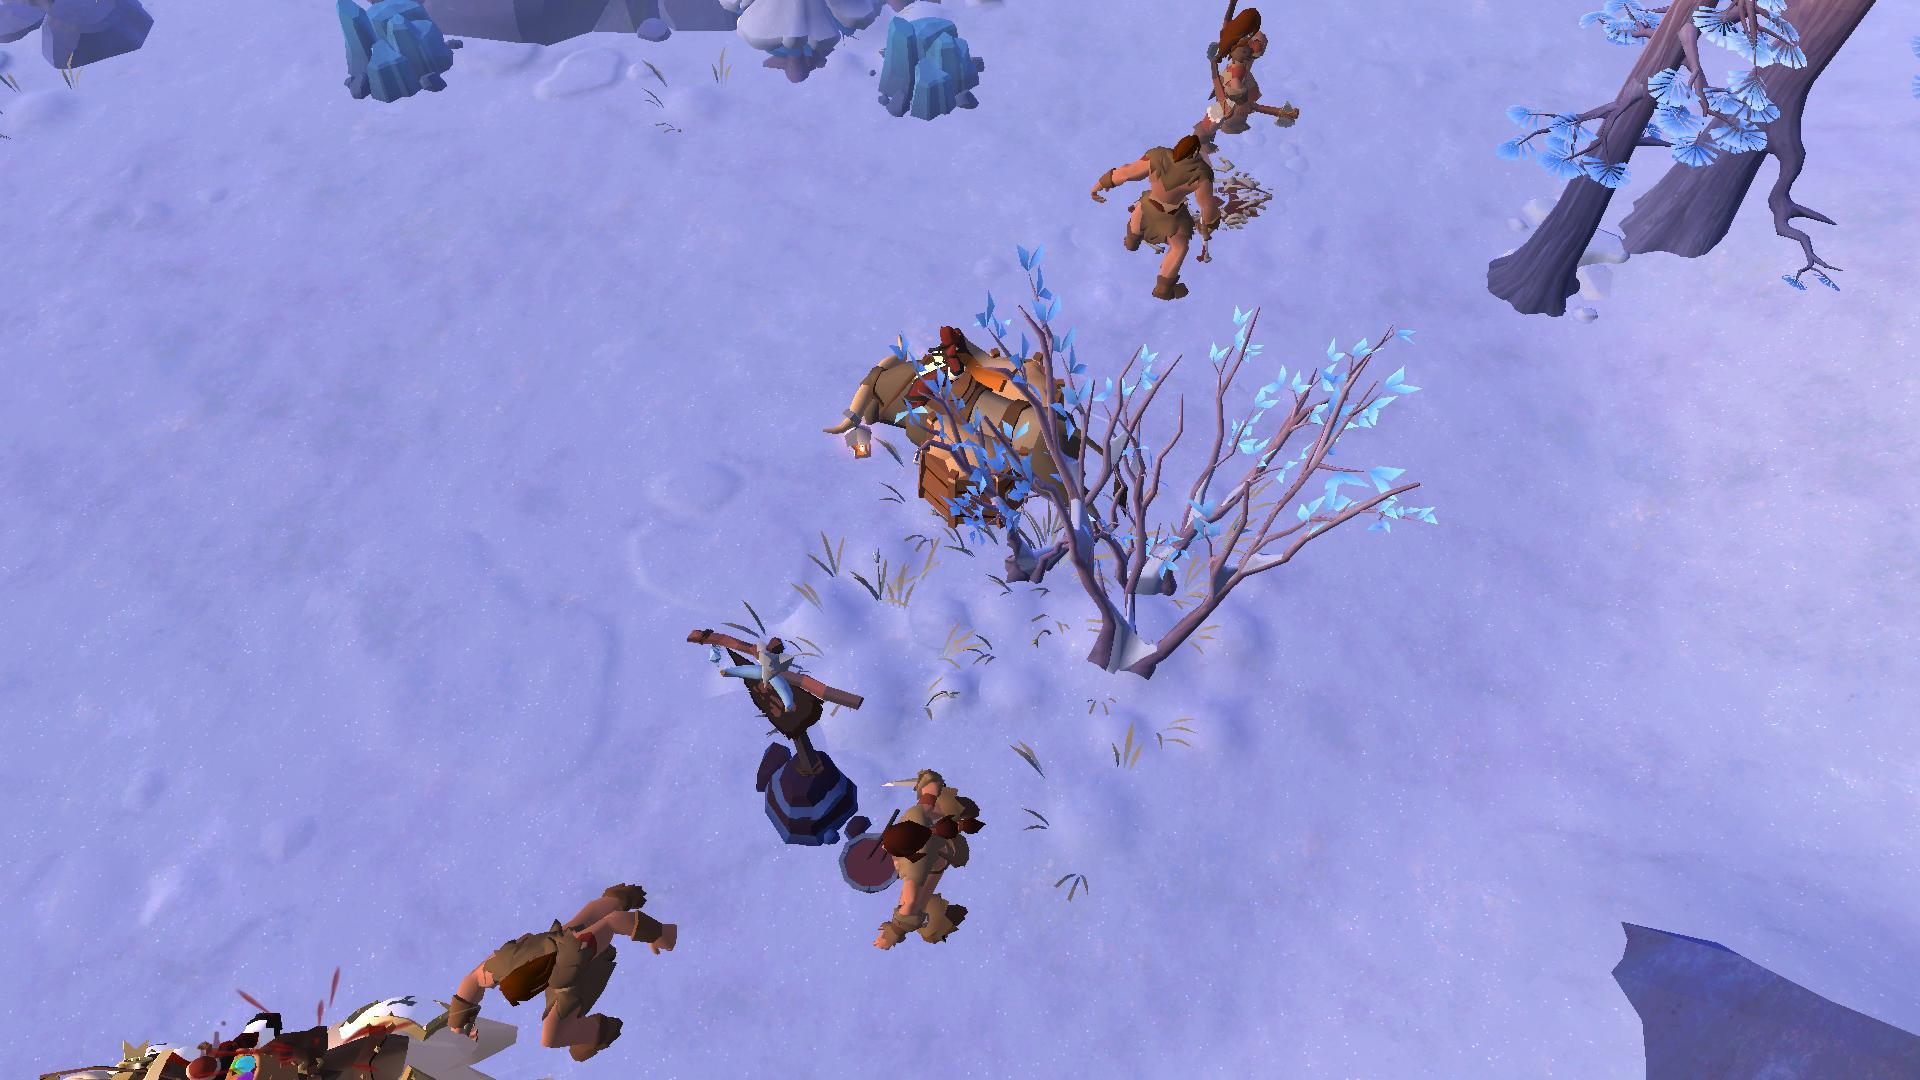enemy_factionKeeper: (1084, 127, 1224, 299), (1187, 0, 1296, 124)
rock_t4: (328, 0, 464, 100), (874, 13, 984, 119)
